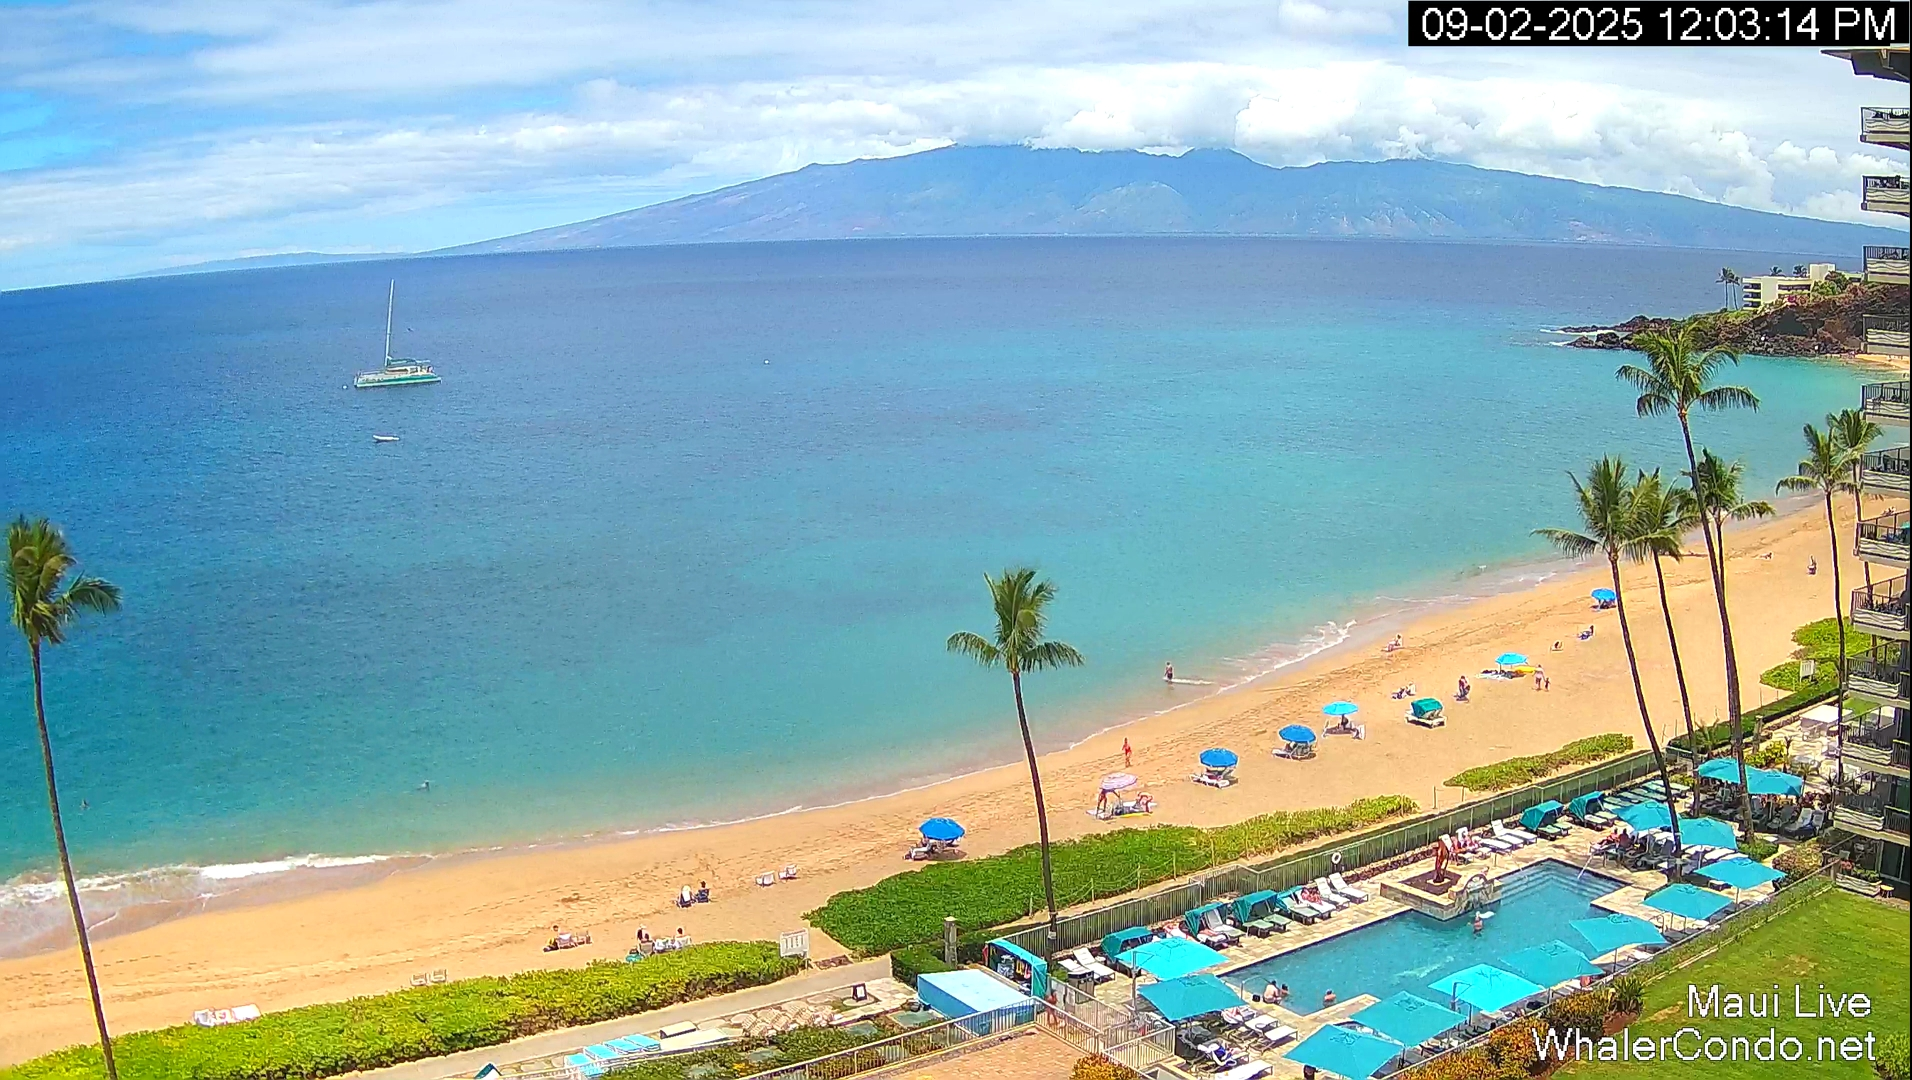boat: (353, 278, 441, 388), (477, 1033, 640, 1080), (353, 358, 441, 389), (373, 434, 400, 441)
person: (1263, 981, 1280, 1005), (679, 885, 696, 907), (695, 880, 711, 903), (1532, 663, 1545, 691), (1121, 737, 1132, 768), (1322, 989, 1337, 1008), (636, 924, 650, 943), (1458, 675, 1470, 697), (1473, 912, 1484, 935), (1278, 983, 1289, 1004), (1164, 662, 1174, 681), (635, 926, 640, 954), (675, 927, 685, 937), (1544, 677, 1551, 691)
surfboard: (1162, 677, 1213, 685)
